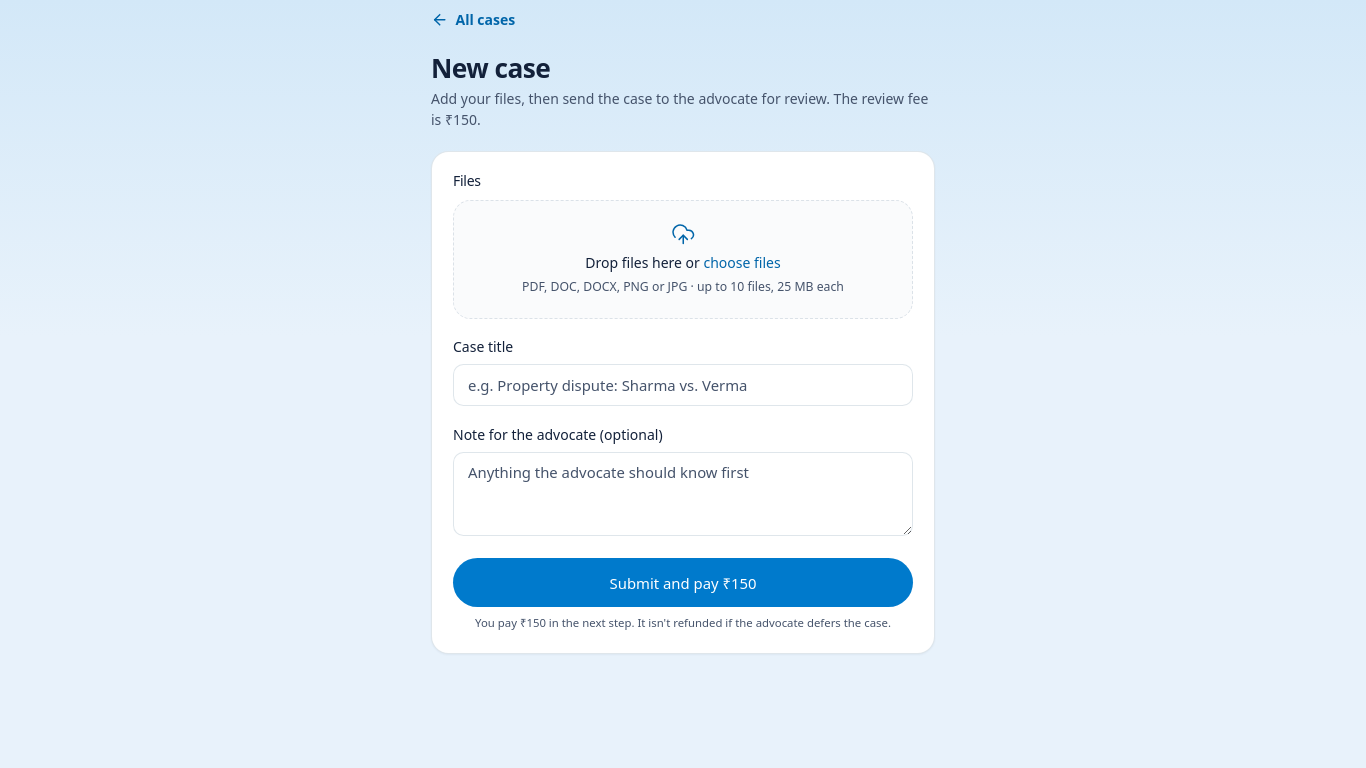
NewCasePage › will not submit without a file or a title, and says what is missing
What coordinates should you click on to do the following:
click the button "Submit and pay ₹150"
I would click on:
 (683, 583)
Its box is [453,558,913,607].
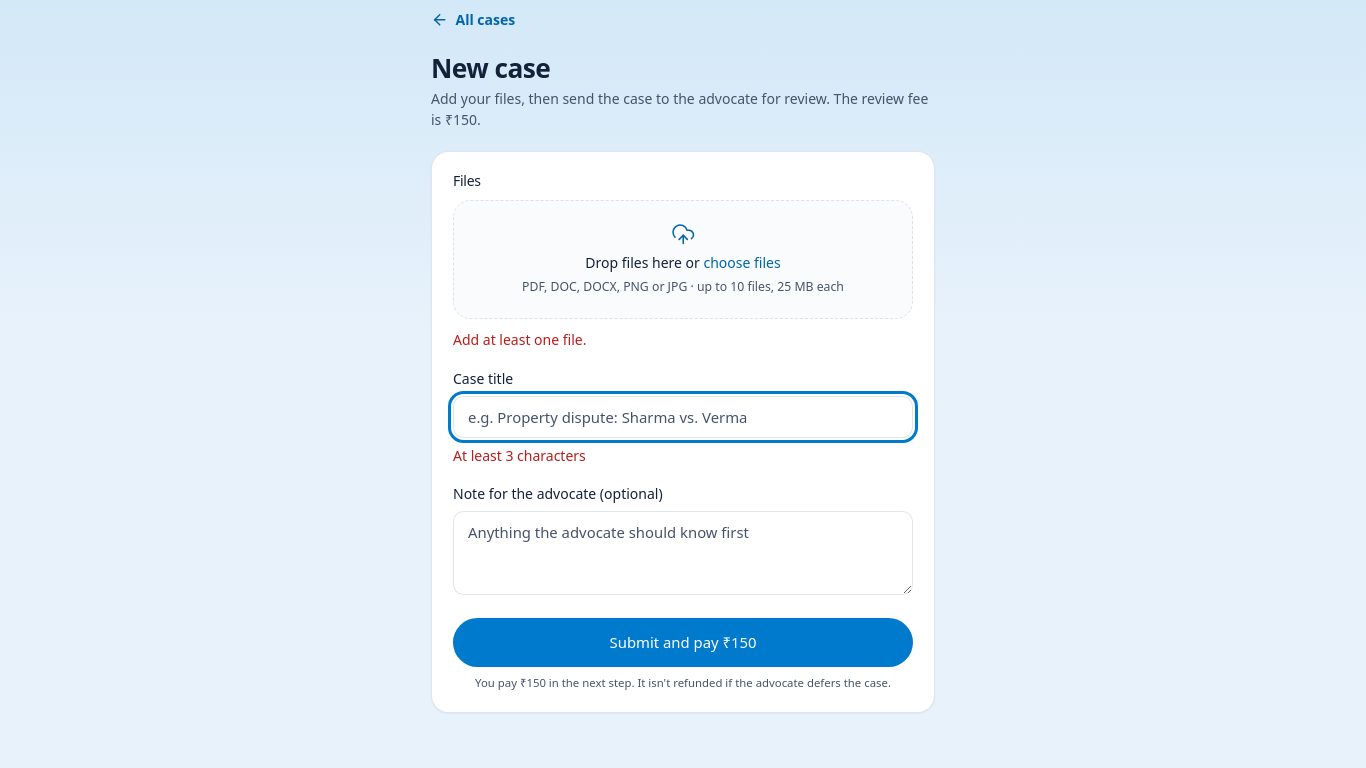
expect the text "Add at least one file." is shown: met, box [453,330,586,349]
expect the text "At least 3 characters" is shown: met, box [453,446,586,465]
